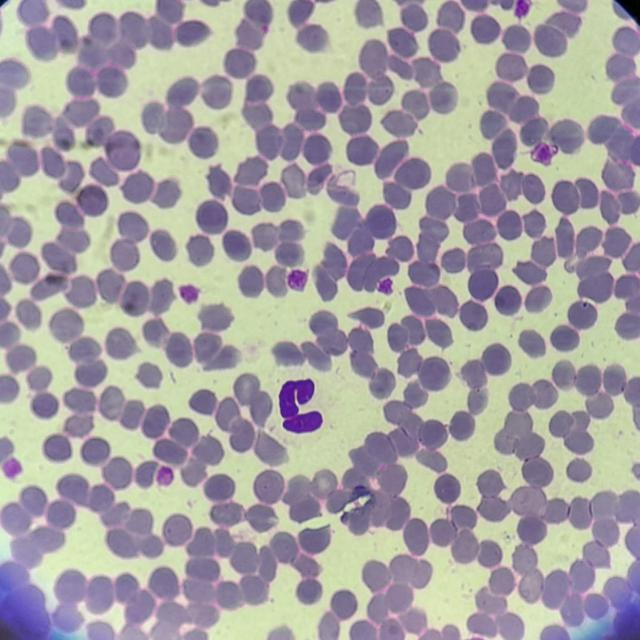Neutrofilo: (266, 369, 332, 441)
